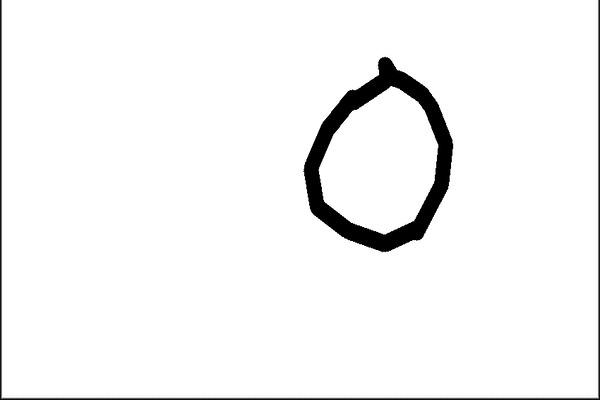O: (281, 50, 459, 257)
